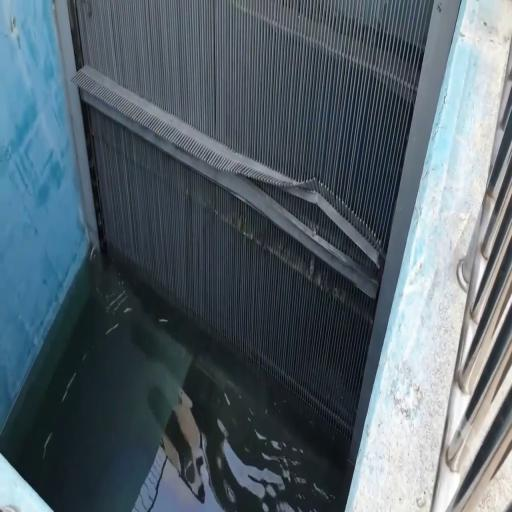rake_broken: (223, 158, 385, 271)
